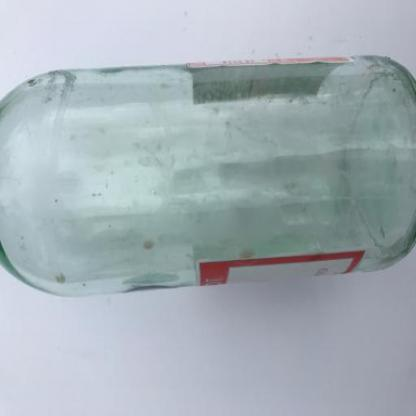trash: (2, 55, 415, 298)
